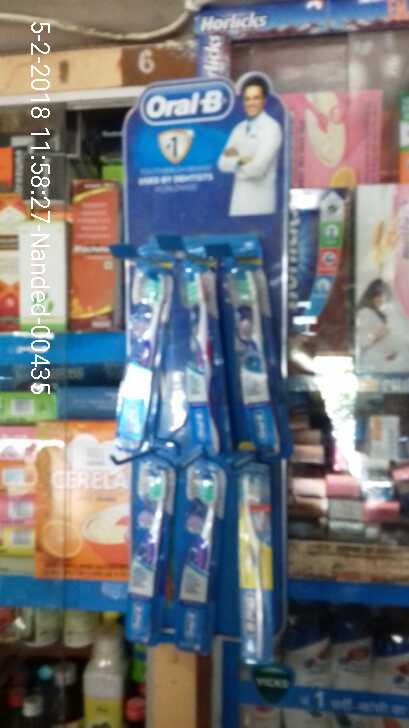oralb: (100, 253, 169, 462), (221, 264, 278, 457), (226, 468, 283, 659), (172, 458, 214, 649), (180, 265, 217, 458), (124, 455, 161, 636)
